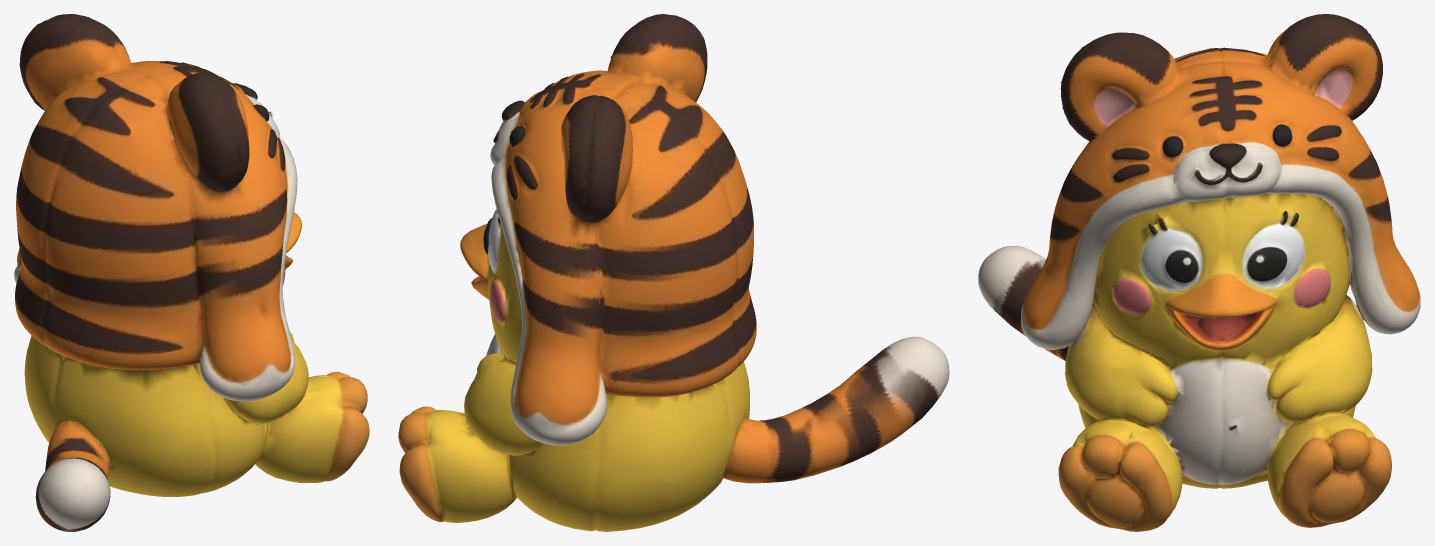
The model's file is tiger-plush.glb.
The picture shows the model from 3 angles, left to right: view 1: azimuth 30°, elevation 25°; view 2: azimuth 150°, elevation 25°; view 3: azimuth 270°, elevation 25°; orthographic projection. The views are drawn at different scales.
Visible parts, largest first — view 1: tripo_node_e2993cf2-c8cc-4862-afc2-731e10239f68; view 2: tripo_node_e2993cf2-c8cc-4862-afc2-731e10239f68; view 3: tripo_node_e2993cf2-c8cc-4862-afc2-731e10239f68.
Part boxes in pixels (x1,y1,x2,y2): tripo_node_e2993cf2-c8cc-4862-afc2-731e10239f68: [14, 14, 369, 531]; tripo_node_e2993cf2-c8cc-4862-afc2-731e10239f68: [398, 14, 949, 531]; tripo_node_e2993cf2-c8cc-4862-afc2-731e10239f68: [978, 14, 1420, 531].
Size of the model in its own units: 0.9075 by 0.9999 by 0.9199.
1 material, 1 textured.
